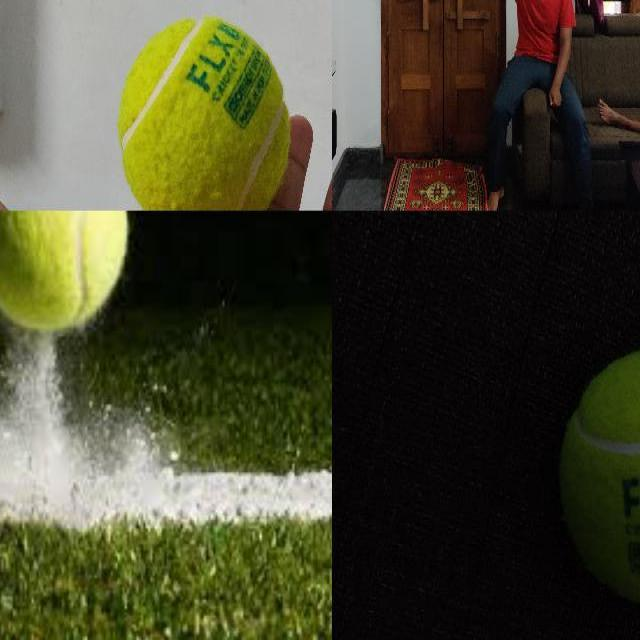tennis-ball: (117, 18, 291, 210), (557, 348, 639, 606), (0, 211, 129, 335)
